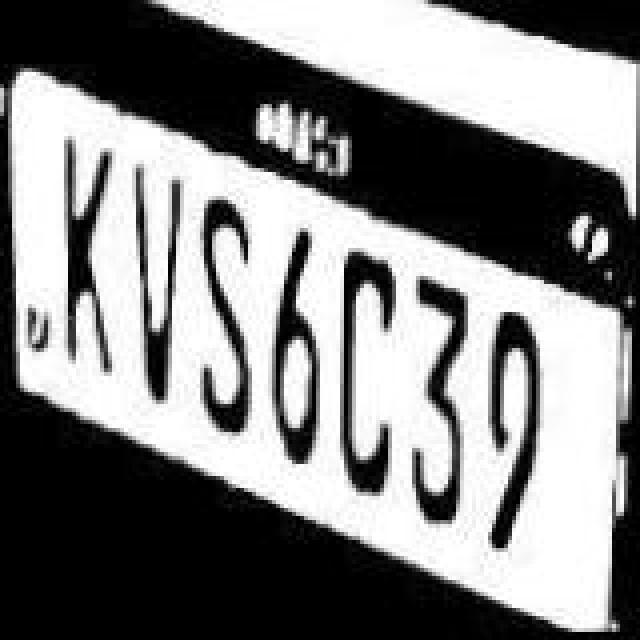3: (410, 272, 478, 540)
6: (266, 228, 334, 484)
9: (480, 314, 548, 562)
C: (326, 250, 402, 510)
K: (52, 122, 124, 394)
S: (190, 194, 266, 458)
V: (116, 158, 188, 414)
